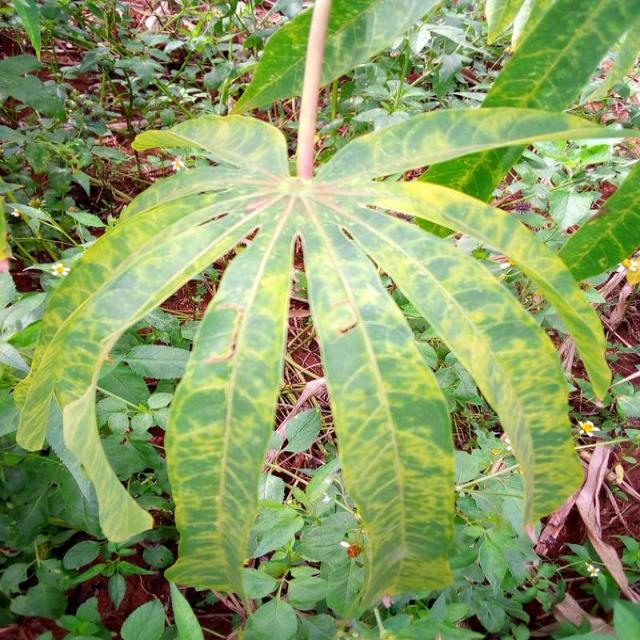cassava leaf: (10, 1, 638, 619)
